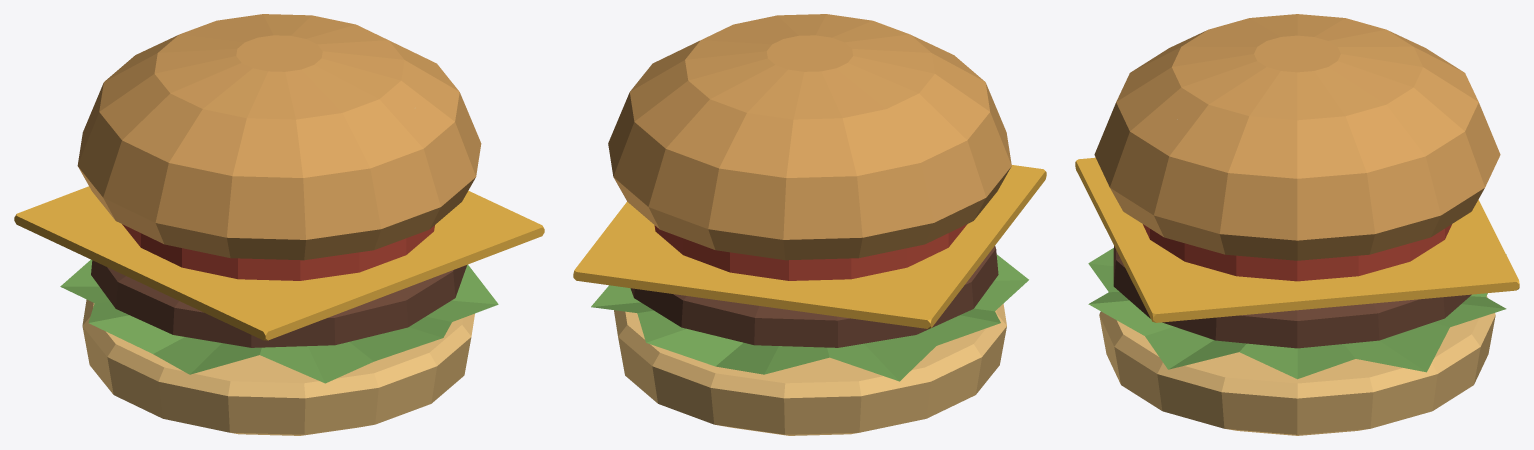
The model's file is Burger_Complete.glb.
The picture shows the model from 3 angles, left to right: view 1: azimuth 30°, elevation 25°; view 2: azimuth 150°, elevation 25°; view 3: azimuth 270°, elevation 25°; orthographic projection.
Visible parts, largest first — view 1: Burger_Complete; view 2: Burger_Complete; view 3: Burger_Complete.
Part boxes in pixels (x1,y1,x2,y2): Burger_Complete: (14,14,544,435); Burger_Complete: (573,14,1046,435); Burger_Complete: (1075,14,1519,435).
Size of the model in its own units: 0.1838 by 0.144 by 0.1838.
